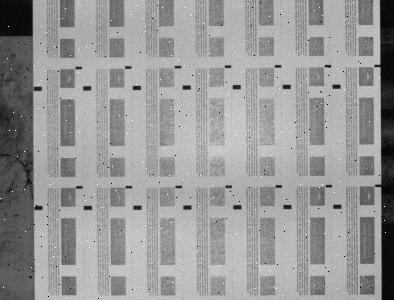backgroundclutter: (29, 275, 33, 278)
qblock: (133, 205, 142, 210), (34, 205, 43, 210), (34, 86, 42, 91), (84, 205, 92, 210), (284, 204, 292, 209), (334, 204, 342, 209), (133, 85, 141, 90), (283, 84, 291, 89), (183, 85, 191, 90), (333, 84, 341, 89), (183, 205, 192, 209), (234, 205, 242, 209), (233, 85, 241, 89), (83, 86, 91, 90)
smallqblock: (175, 65, 182, 69), (226, 185, 233, 188), (276, 185, 283, 188), (275, 65, 282, 68), (76, 186, 83, 189), (225, 65, 232, 68), (125, 66, 132, 69), (75, 66, 82, 69), (126, 185, 132, 188), (375, 64, 381, 67), (176, 185, 182, 188), (326, 184, 332, 187), (376, 184, 382, 187), (325, 65, 332, 67)
